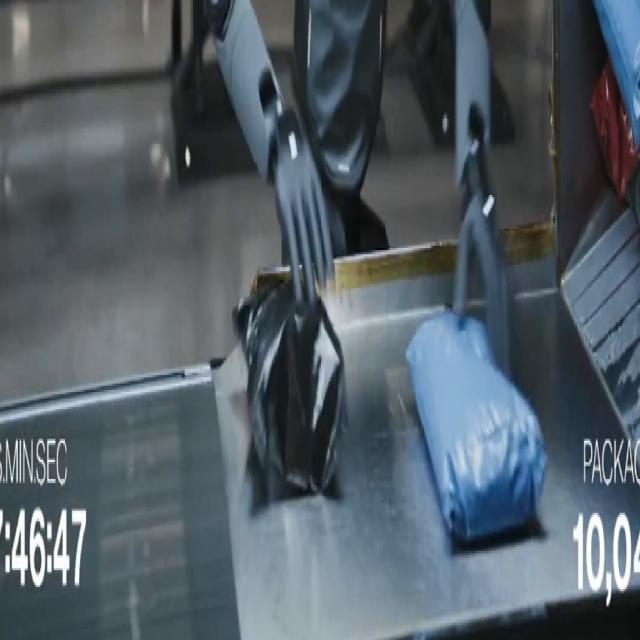package: (406, 310, 546, 542), (233, 282, 346, 491), (594, 0, 639, 144), (592, 62, 638, 199), (626, 164, 639, 224)
